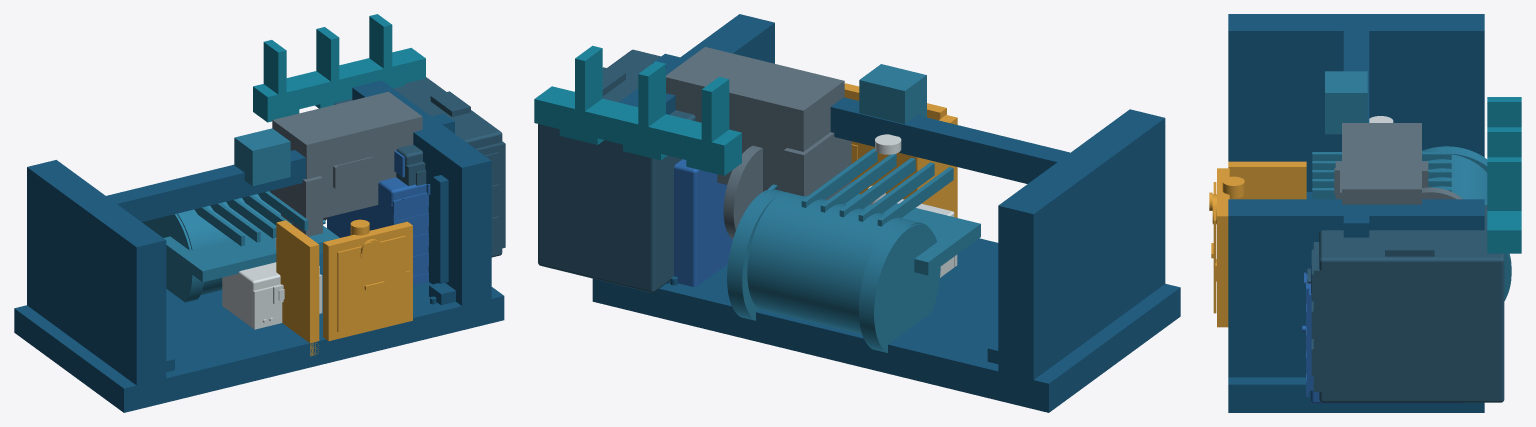
File: regenport-exploded.glb
The picture shows the model from 3 angles, left to right: view 1: azimuth 30°, elevation 25°; view 2: azimuth 150°, elevation 25°; view 3: azimuth 270°, elevation 25°; orthographic projection. The views are drawn at different scales.
Parts seen in each view (by area): view 1: regenport.load_crane_interface, regenport.service_emergency_access, regenport.motor_generator, regenport.transmission_brake_path, regenport.dc_link, regenport.storage_buffer, regenport.converter_inverter, regenport.controller_sensors; view 2: regenport.load_crane_interface, regenport.motor_generator, regenport.storage_buffer, regenport.transmission_brake_path, regenport.dc_link, regenport.converter_inverter, regenport.service_emergency_access, regenport.controller_sensors; view 3: regenport.load_crane_interface, regenport.storage_buffer, regenport.transmission_brake_path, regenport.motor_generator, regenport.service_emergency_access, regenport.dc_link, regenport.converter_inverter.
Part boxes in pixels (bbox=[...]): regenport.load_crane_interface: bbox=[14, 80, 504, 412]; regenport.service_emergency_access: bbox=[276, 219, 412, 356]; regenport.motor_generator: bbox=[142, 128, 339, 302]; regenport.transmission_brake_path: bbox=[269, 91, 422, 236]; regenport.dc_link: bbox=[253, 14, 425, 122]; regenport.storage_buffer: bbox=[334, 77, 505, 257]; regenport.converter_inverter: bbox=[327, 150, 430, 285]; regenport.controller_sensors: bbox=[222, 238, 322, 329]; regenport.load_crane_interface: bbox=[592, 14, 1180, 412]; regenport.motor_generator: bbox=[727, 64, 980, 352]; regenport.storage_buffer: bbox=[538, 49, 695, 292]; regenport.transmission_brake_path: bbox=[666, 47, 851, 239]; regenport.dc_link: bbox=[534, 45, 741, 175]; regenport.converter_inverter: bbox=[674, 159, 732, 286]; regenport.service_emergency_access: bbox=[844, 83, 957, 217]; regenport.controller_sensors: bbox=[868, 134, 957, 277]; regenport.load_crane_interface: bbox=[1228, 14, 1484, 412]; regenport.storage_buffer: bbox=[1307, 205, 1504, 402]; regenport.transmission_brake_path: bbox=[1334, 123, 1462, 204]; regenport.motor_generator: bbox=[1312, 71, 1511, 300]; regenport.service_emergency_access: bbox=[1209, 161, 1306, 327]; regenport.dc_link: bbox=[1487, 97, 1521, 253]; regenport.converter_inverter: bbox=[1302, 265, 1462, 403].
Bounding box in the file's own units: 3960 × 1940 × 2192.
